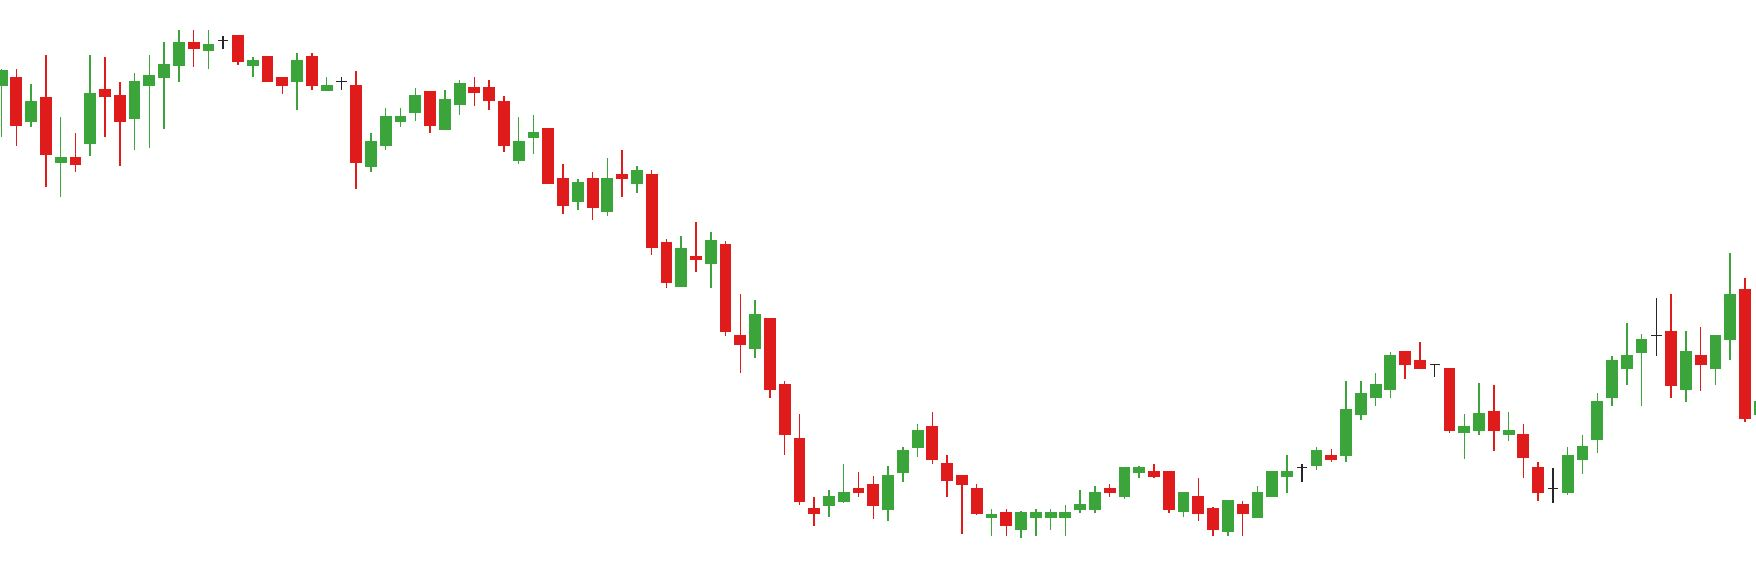buy: (866, 458, 1026, 544)
